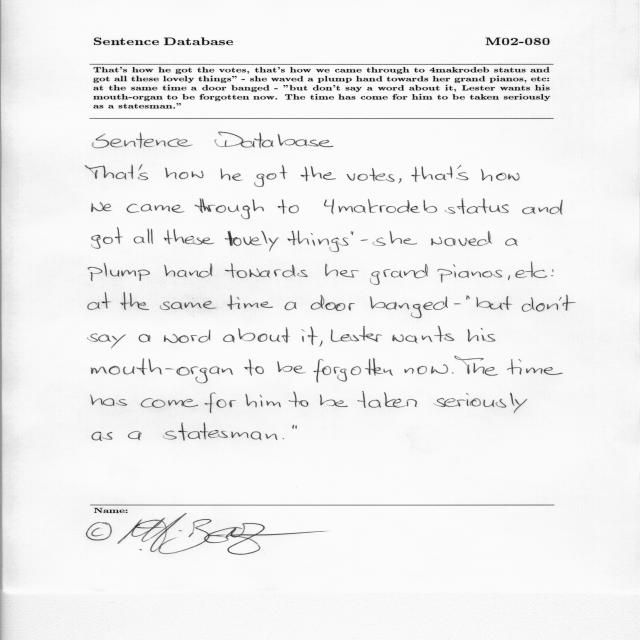word: (91, 358, 233, 384), (163, 423, 277, 441), (314, 358, 394, 383), (434, 393, 527, 414), (215, 132, 334, 148), (370, 297, 448, 319), (324, 199, 437, 214), (93, 133, 193, 149), (195, 199, 264, 219), (288, 230, 349, 252), (225, 263, 308, 278), (438, 264, 503, 283), (370, 264, 428, 285), (225, 231, 279, 252), (88, 263, 150, 281), (223, 327, 290, 343), (393, 326, 455, 343), (358, 391, 417, 408), (445, 199, 509, 214), (522, 295, 576, 312), (431, 231, 492, 246), (507, 359, 563, 375), (454, 356, 498, 376), (164, 229, 215, 245), (331, 326, 382, 342), (85, 165, 134, 180), (164, 263, 213, 278), (254, 165, 287, 187), (311, 295, 355, 311), (227, 295, 273, 310), (92, 227, 123, 249), (372, 231, 417, 246), (347, 168, 395, 182), (411, 166, 453, 182), (205, 393, 237, 413), (522, 200, 563, 215), (164, 330, 210, 343), (141, 398, 199, 408), (88, 334, 126, 349), (300, 166, 336, 181), (127, 204, 185, 213), (121, 292, 150, 310), (160, 301, 217, 310), (515, 262, 547, 278), (477, 296, 513, 310), (325, 264, 359, 278), (481, 169, 520, 181), (245, 394, 281, 407), (404, 364, 448, 374), (165, 168, 204, 179), (88, 292, 111, 310), (91, 395, 127, 406), (468, 328, 496, 342), (277, 361, 306, 374), (244, 359, 264, 376), (320, 395, 348, 407), (278, 199, 299, 214), (301, 327, 318, 345), (289, 391, 308, 407), (221, 168, 243, 181), (134, 229, 153, 244), (92, 202, 112, 212), (457, 165, 469, 180), (92, 432, 112, 441), (138, 165, 148, 180), (128, 431, 142, 440), (505, 238, 518, 246), (285, 302, 297, 310), (139, 334, 151, 342), (320, 340, 323, 347), (398, 179, 402, 184), (466, 295, 470, 300), (292, 425, 297, 429), (361, 239, 368, 241), (551, 269, 553, 276), (351, 231, 354, 235), (508, 275, 510, 280), (454, 304, 461, 305), (452, 373, 454, 374), (283, 438, 284, 439)
